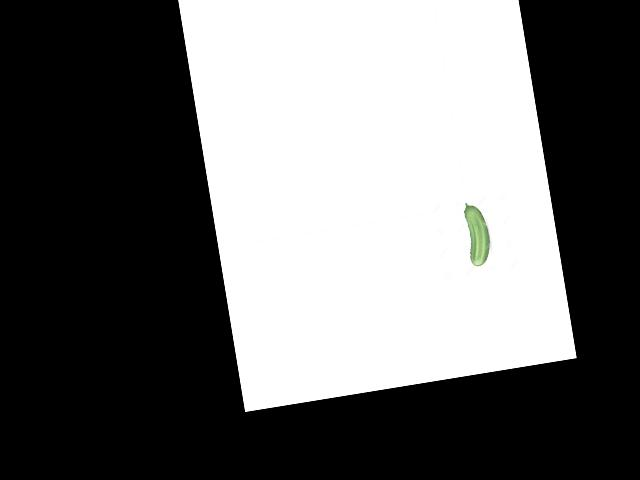cucumber: (461, 200, 494, 267)
